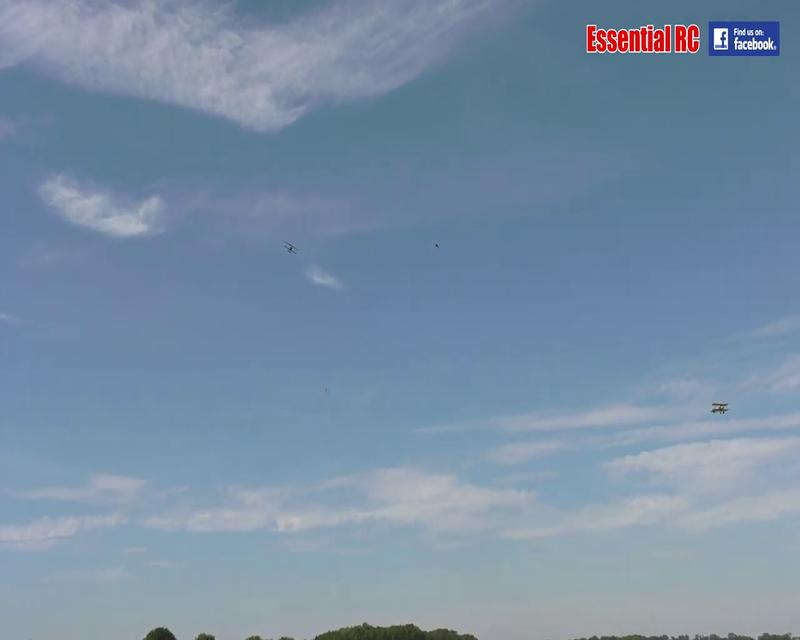UAV: (585, 22, 701, 54), (282, 238, 299, 256), (711, 400, 729, 415)
